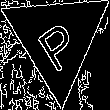P_NW: (30, 8, 84, 71)
